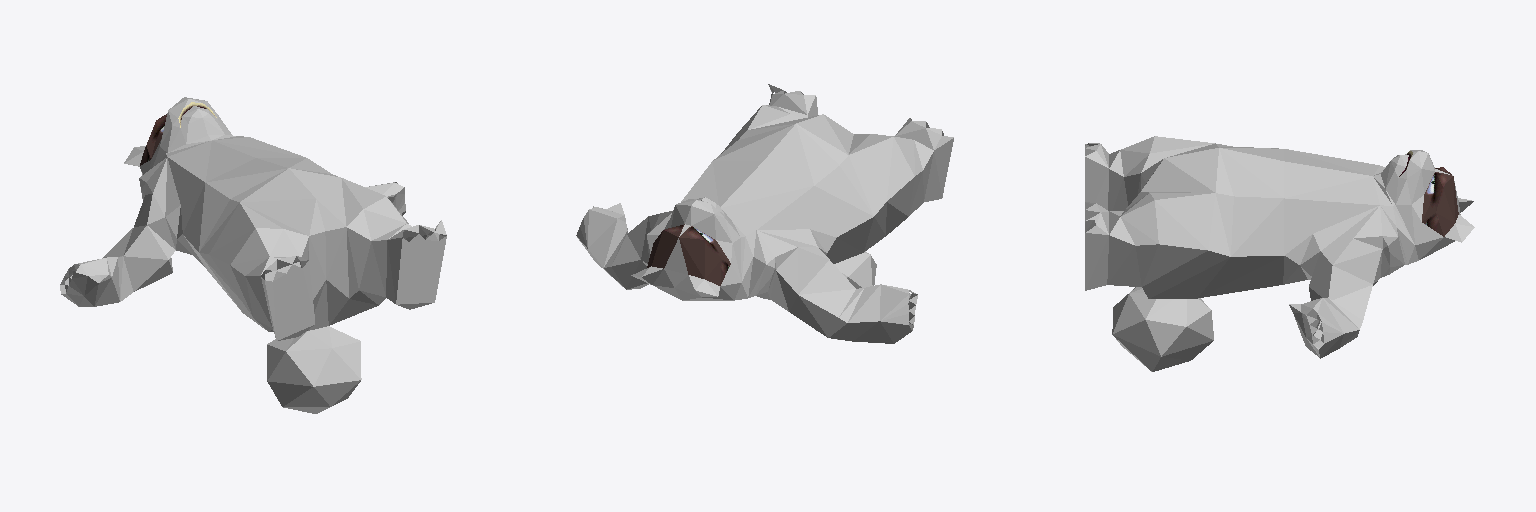
3 views of the same model, side by side, from view 1: azimuth 30°, elevation 25°; view 2: azimuth 150°, elevation 25°; view 3: azimuth 270°, elevation 25° (orthographic).
Visible parts, largest first — view 1: ringuma; view 2: ringuma; view 3: ringuma.
Boxes of the visible parts, x1=… form: ringuma: x1=60, y1=97, x2=446, y2=413; ringuma: x1=576, y1=84, x2=953, y2=343; ringuma: x1=1085, y1=136, x2=1474, y2=371.
Size of the model in its own units: 18.68 by 11.52 by 18.6.
Materials: 13 (2 with a texture image).